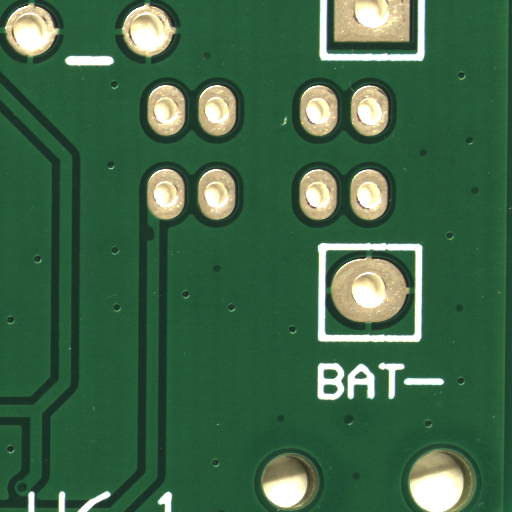Mouse_bite: (150, 233, 159, 250)
